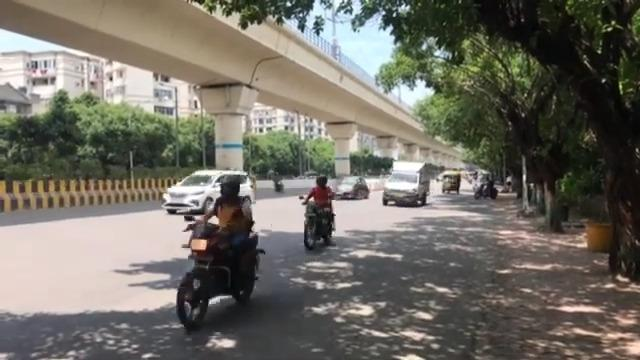Bike: (171, 173, 265, 330), (297, 173, 337, 249), (472, 172, 499, 199), (271, 172, 284, 192)
Car: (161, 169, 256, 215)
Truck: (381, 159, 434, 206)
